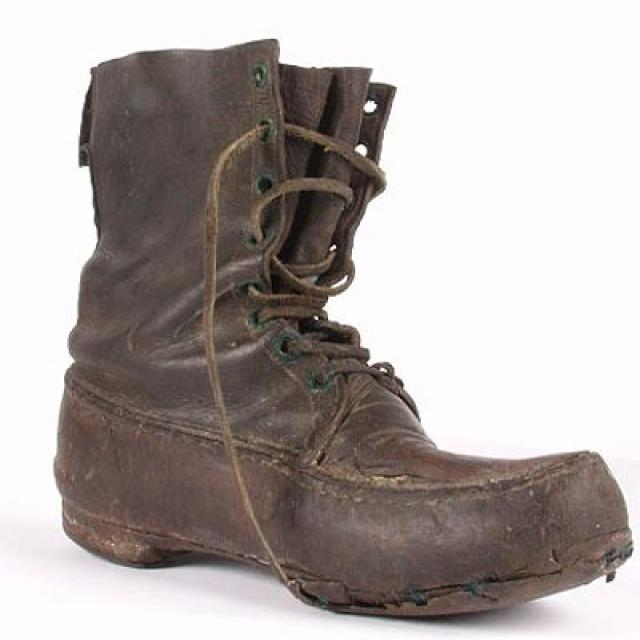boot: (45, 38, 639, 608)
